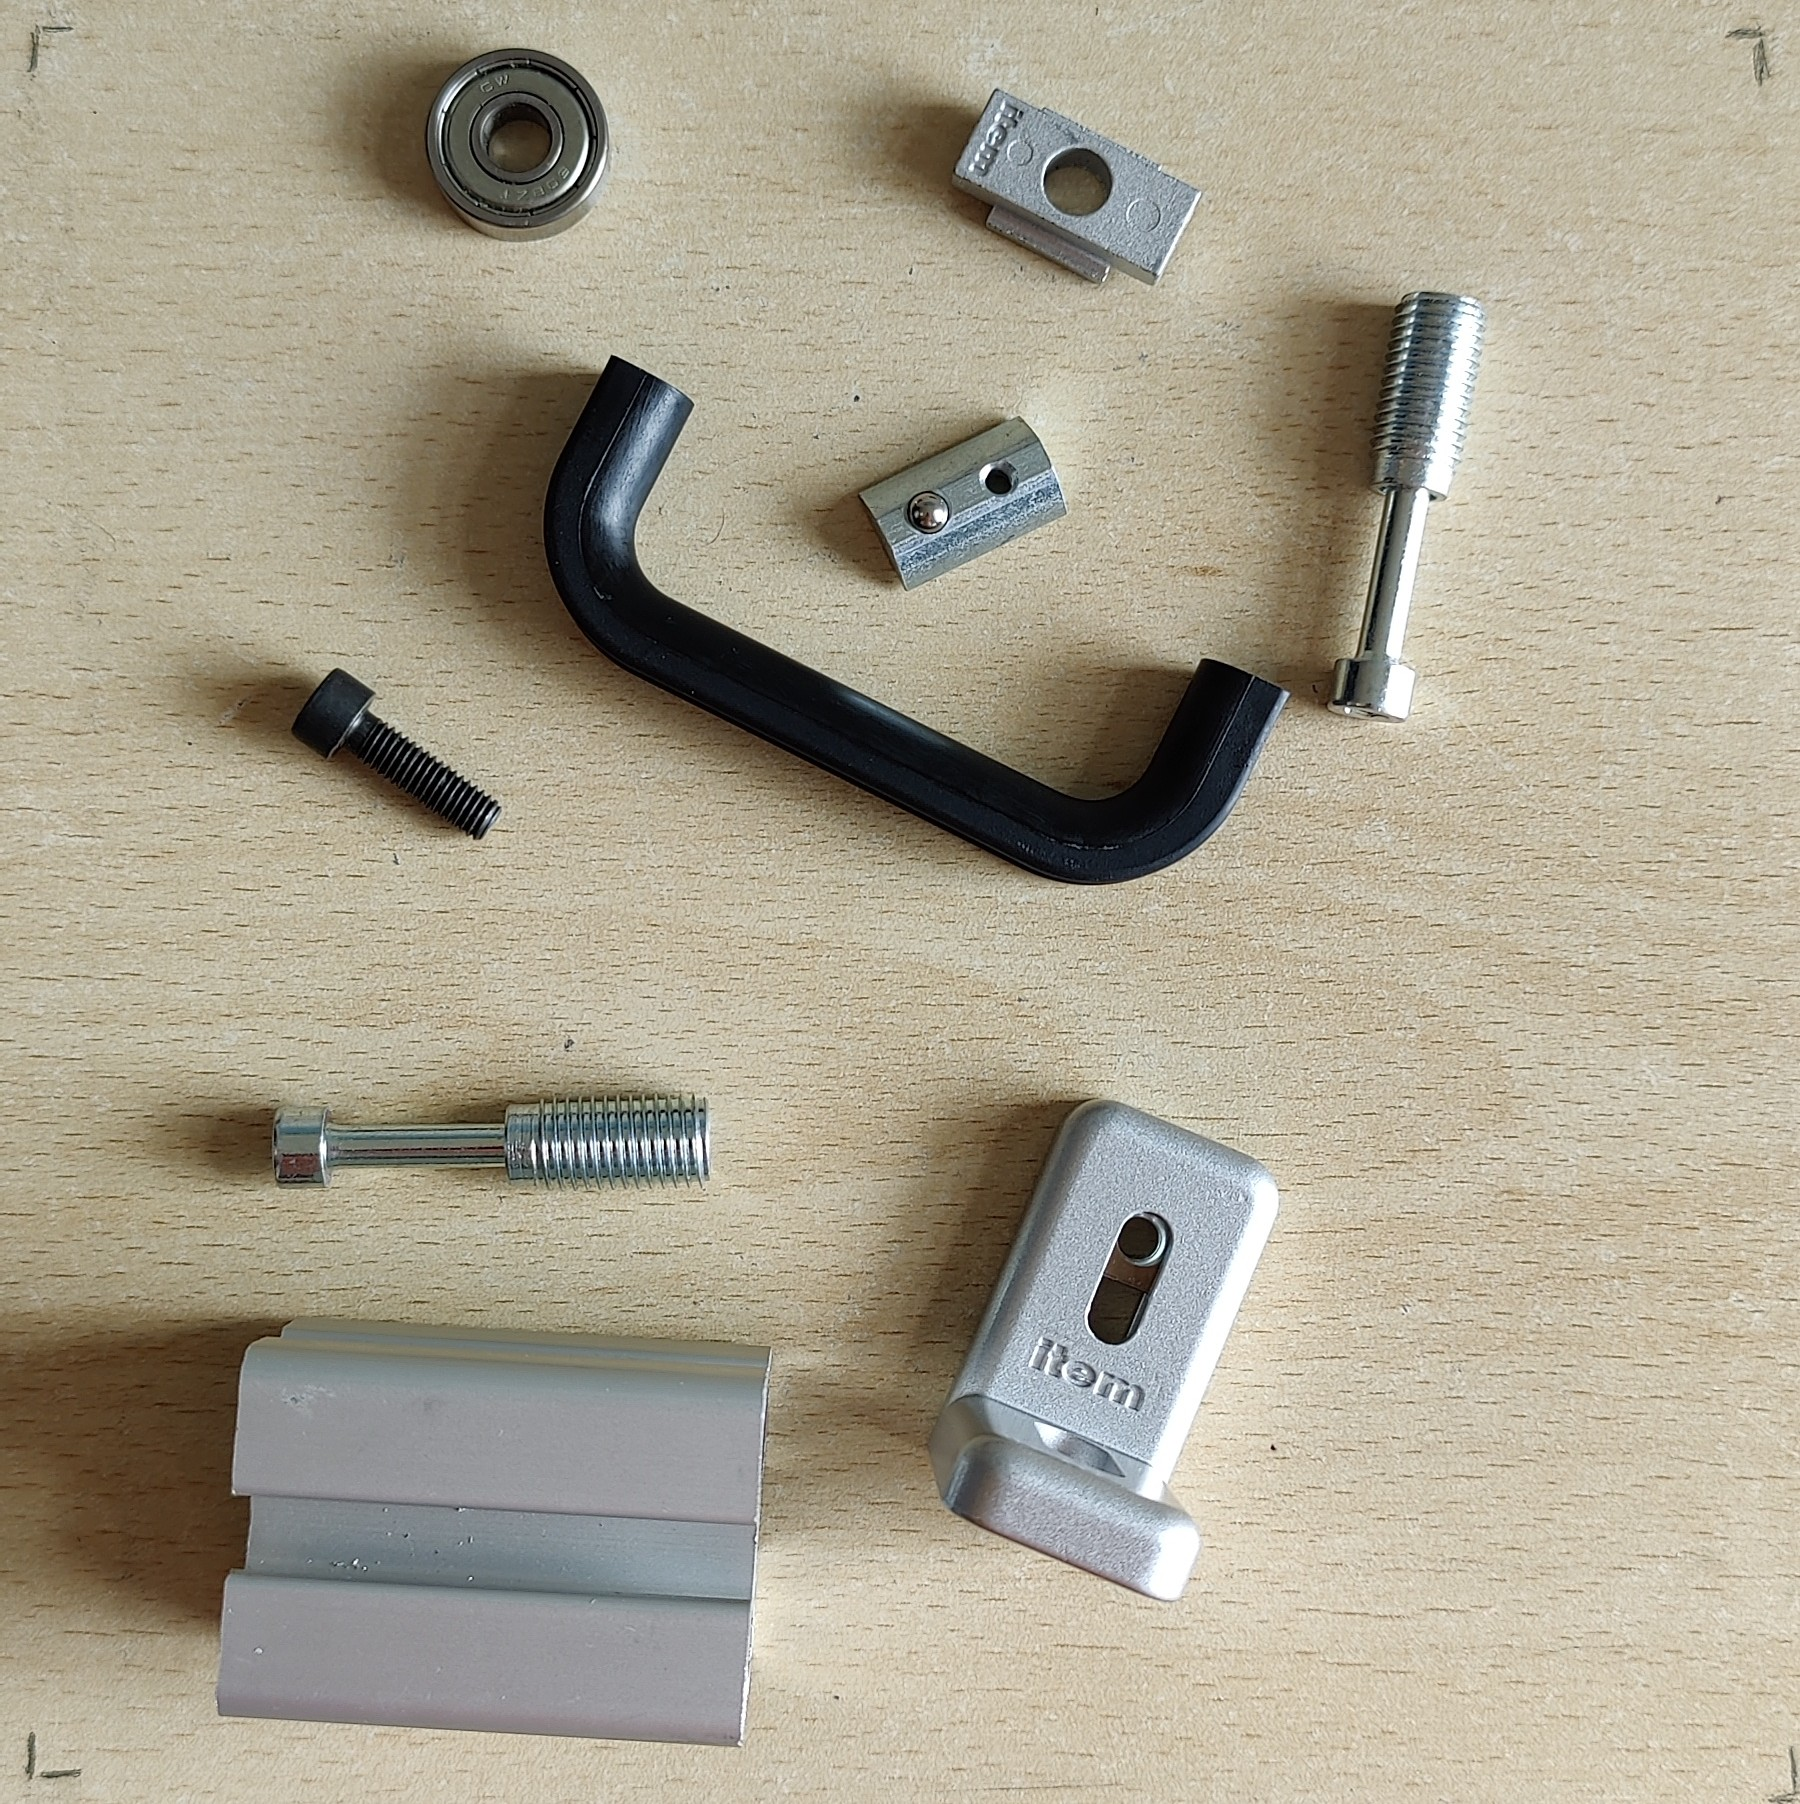Aluminium Extension: (213, 1313, 776, 1751)
Ball Bearing: (424, 45, 612, 246)
Multiwinkel: (925, 1093, 1282, 1604)
Pull Handle: (537, 350, 1292, 889)
Shoulder Socket Head Cap Screw: (1324, 285, 1488, 727), (270, 1088, 715, 1192)
Socket Head Cap Screw: (287, 666, 504, 848)
T Nut Square: (945, 86, 1208, 294)
T Spring Nut: (855, 411, 1073, 594)
